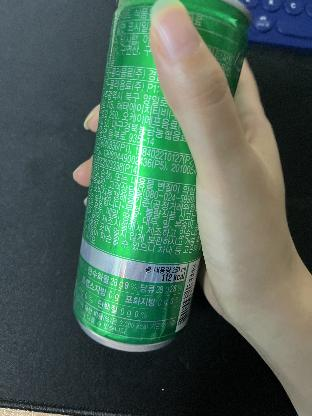Can: (73, 0, 252, 354)
